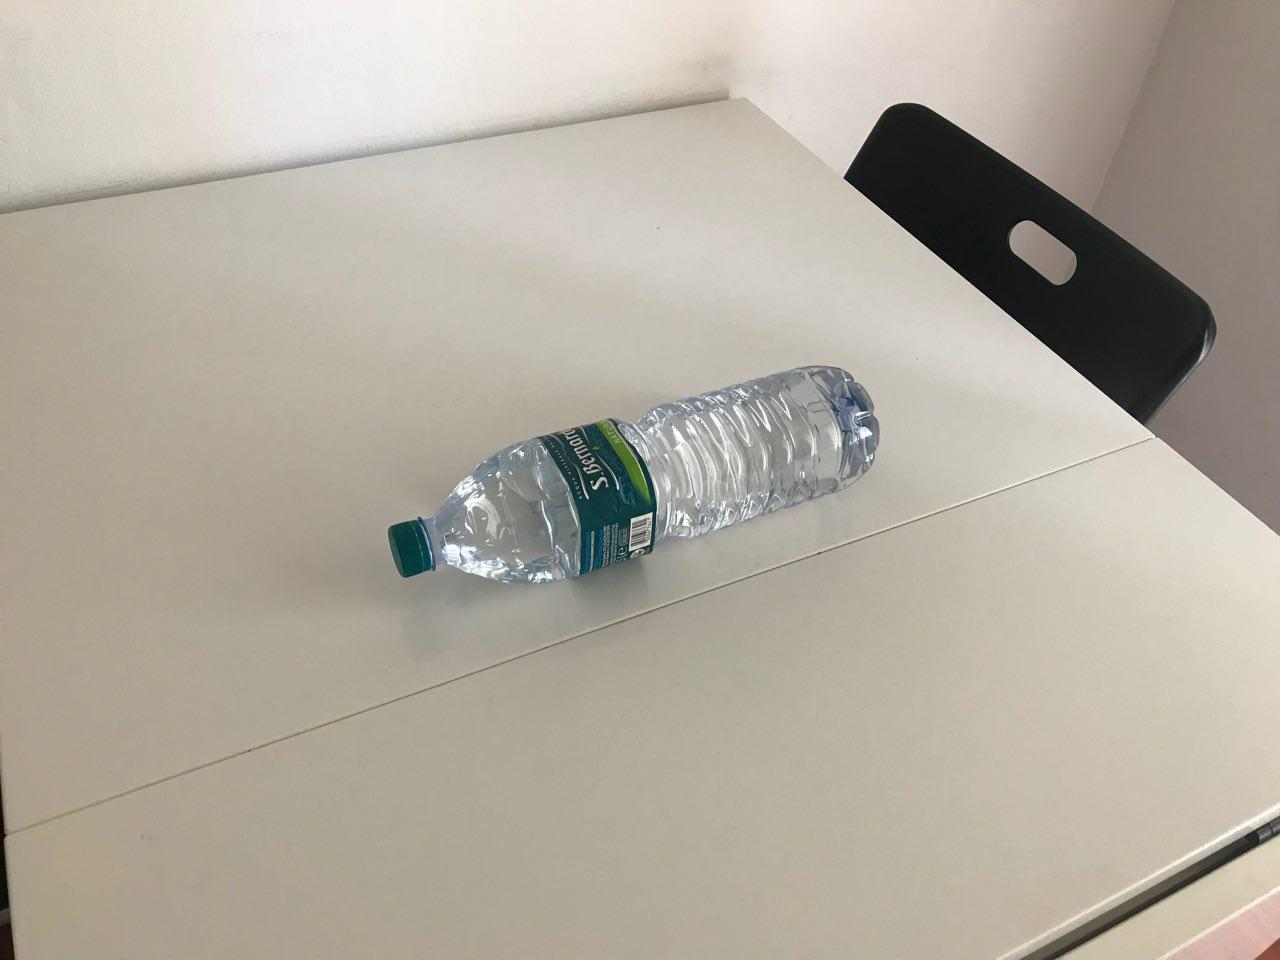san_bernardo: (386, 363, 882, 586)
